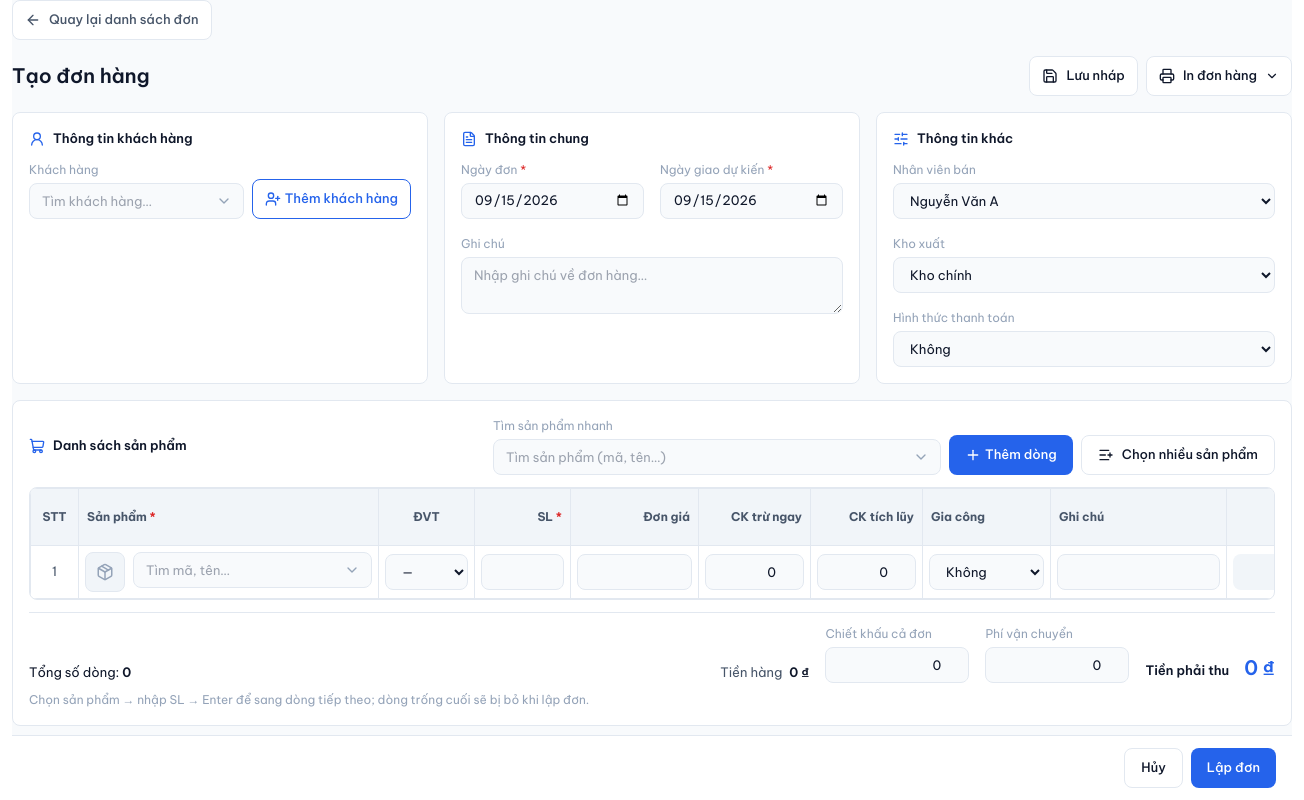
Scenario: SaleOrderForm (/sales/orders/new) › số lượng vượt tồn → cảnh báo đơn treo nhưng VẪN cho lập
The image size is (1304, 800).
In the dropdown labelled "Khách hàng": (136, 200) [29,182,244,218], type "dat"
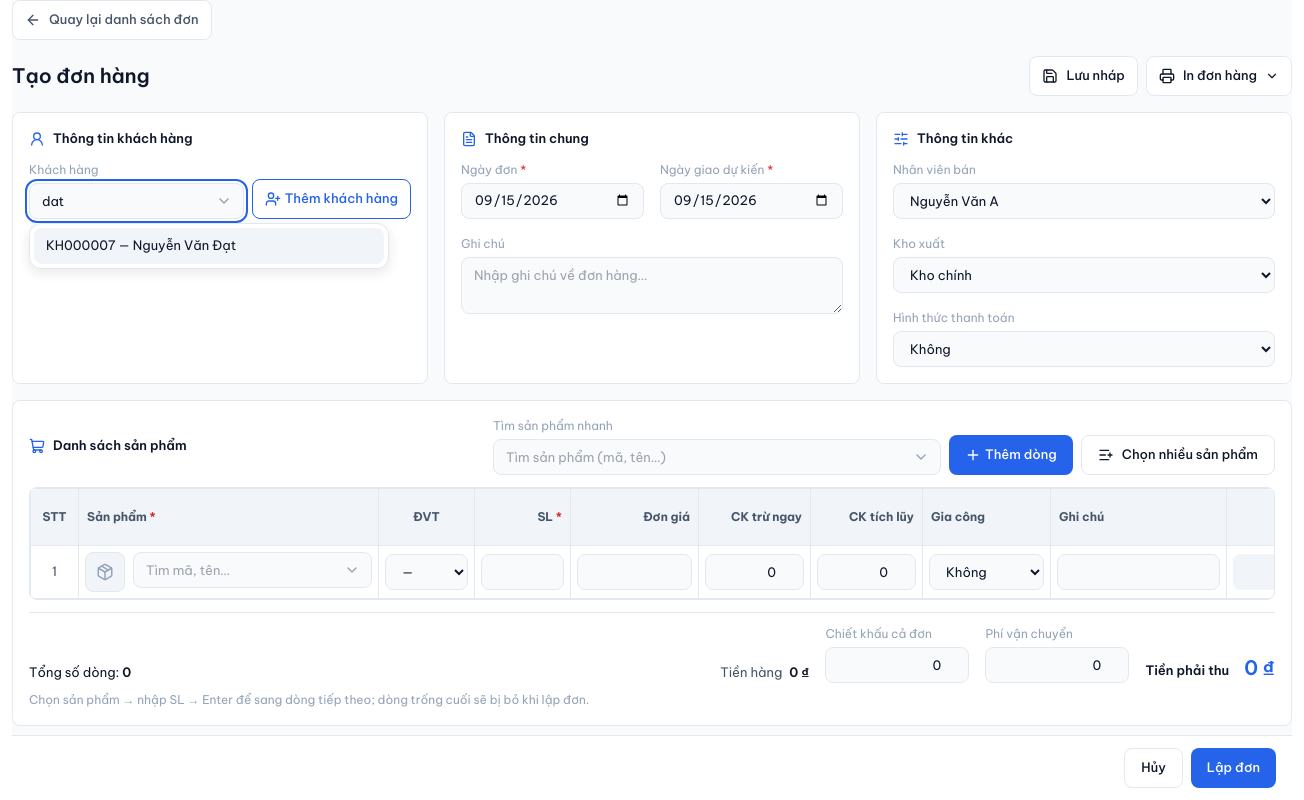
Click the option "KH000007 — Nguyễn Văn Đạt": (209, 246) [34,228,384,264]
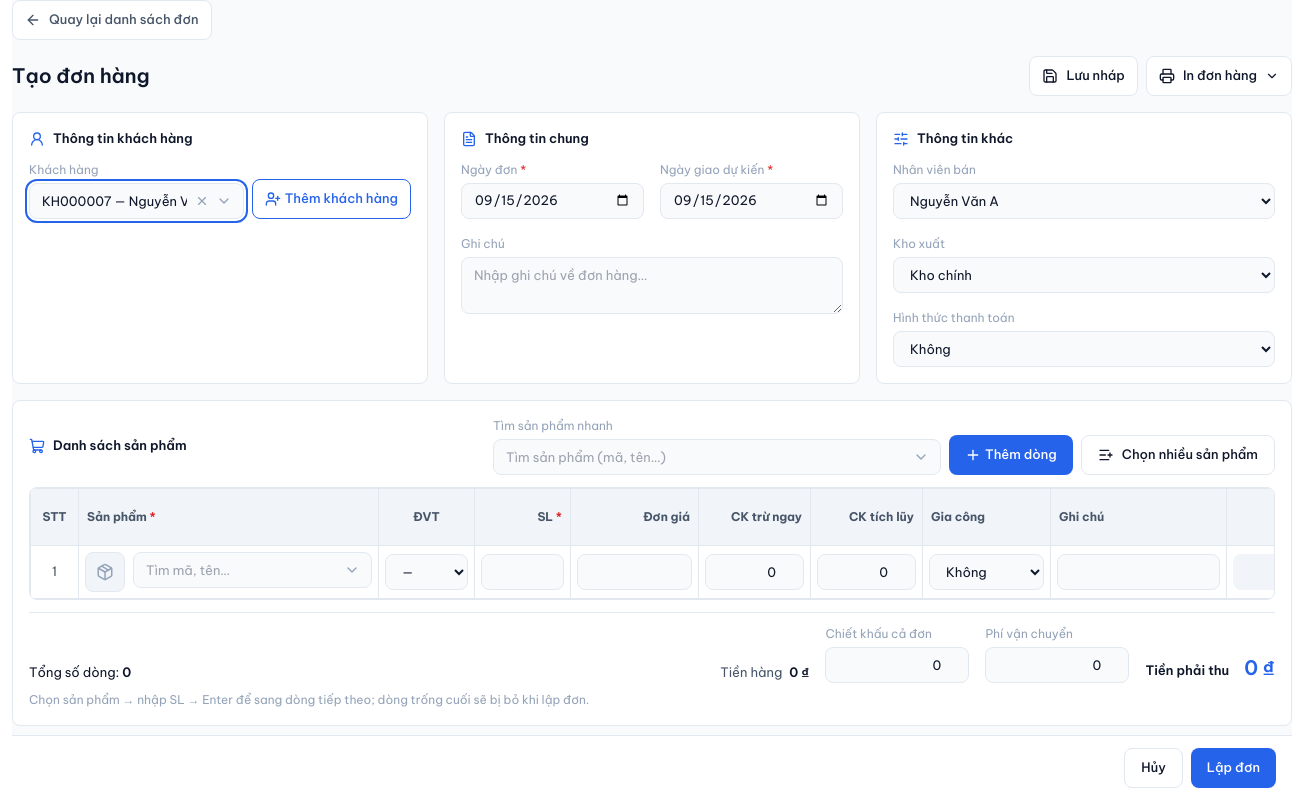
In the dropdown named "Sản phẩm dòng 1": (252, 570) [133,552,372,588], type "ton"
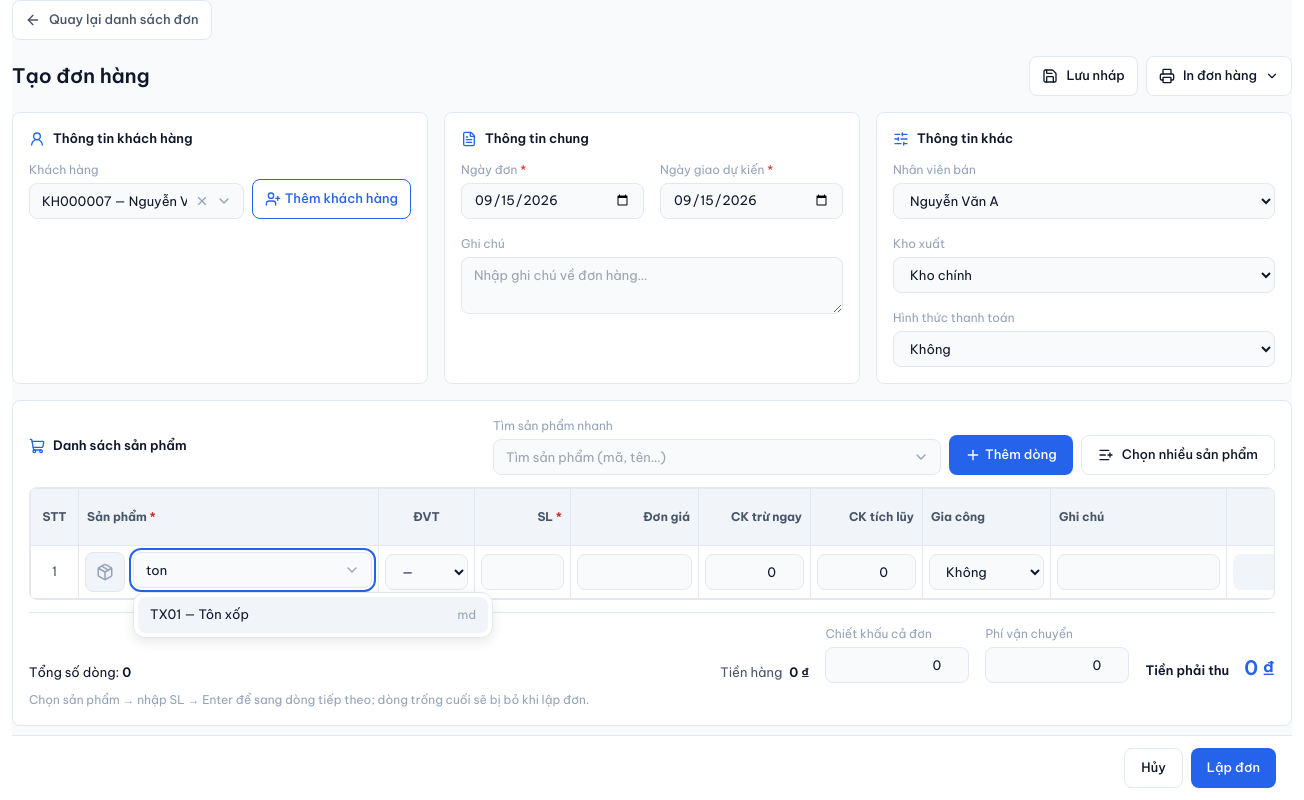
Click the option "TX01 — Tôn xốp md": (199, 614) [138,596,488,632]
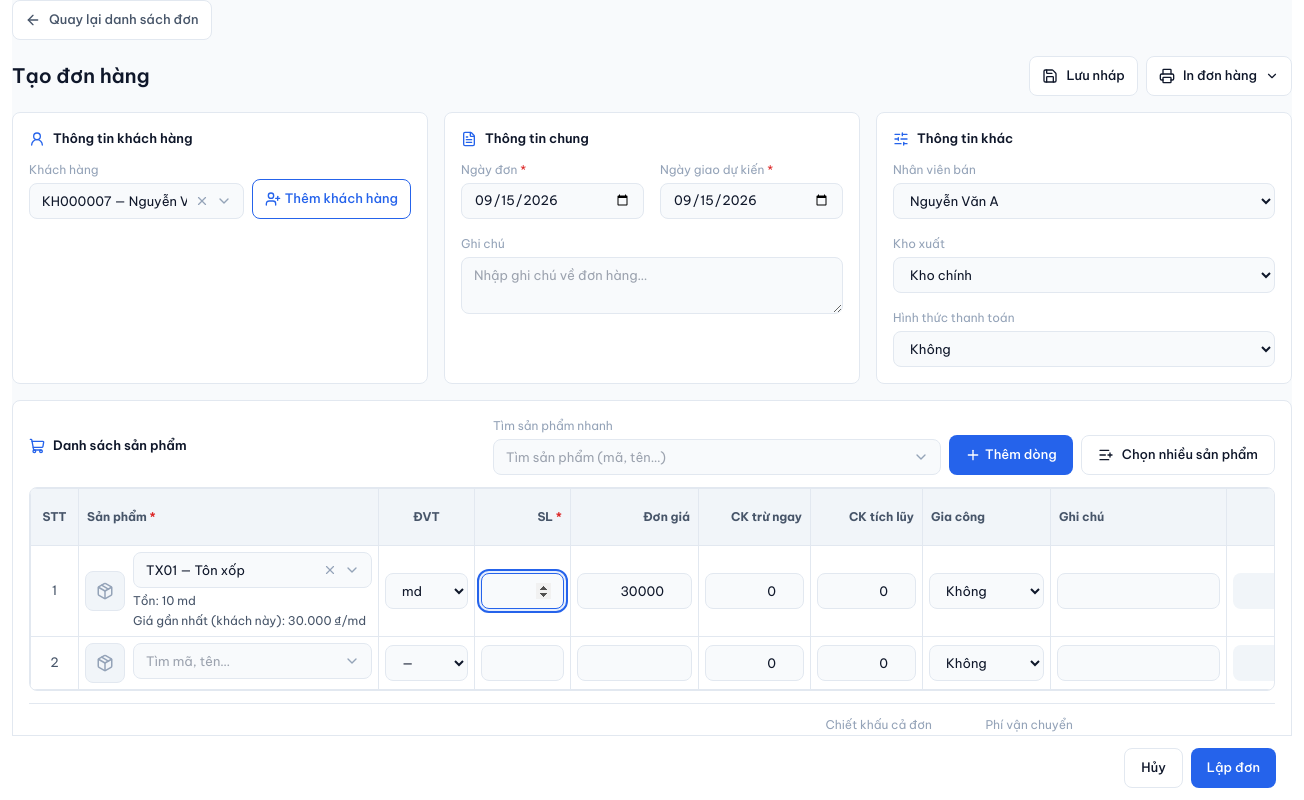
Now the text "Tồn: 10 md" is shown, box [133,592,196,608]
In the number field named "Số lượng dòng 1": (522, 590) [481,572,564,608], type "25"
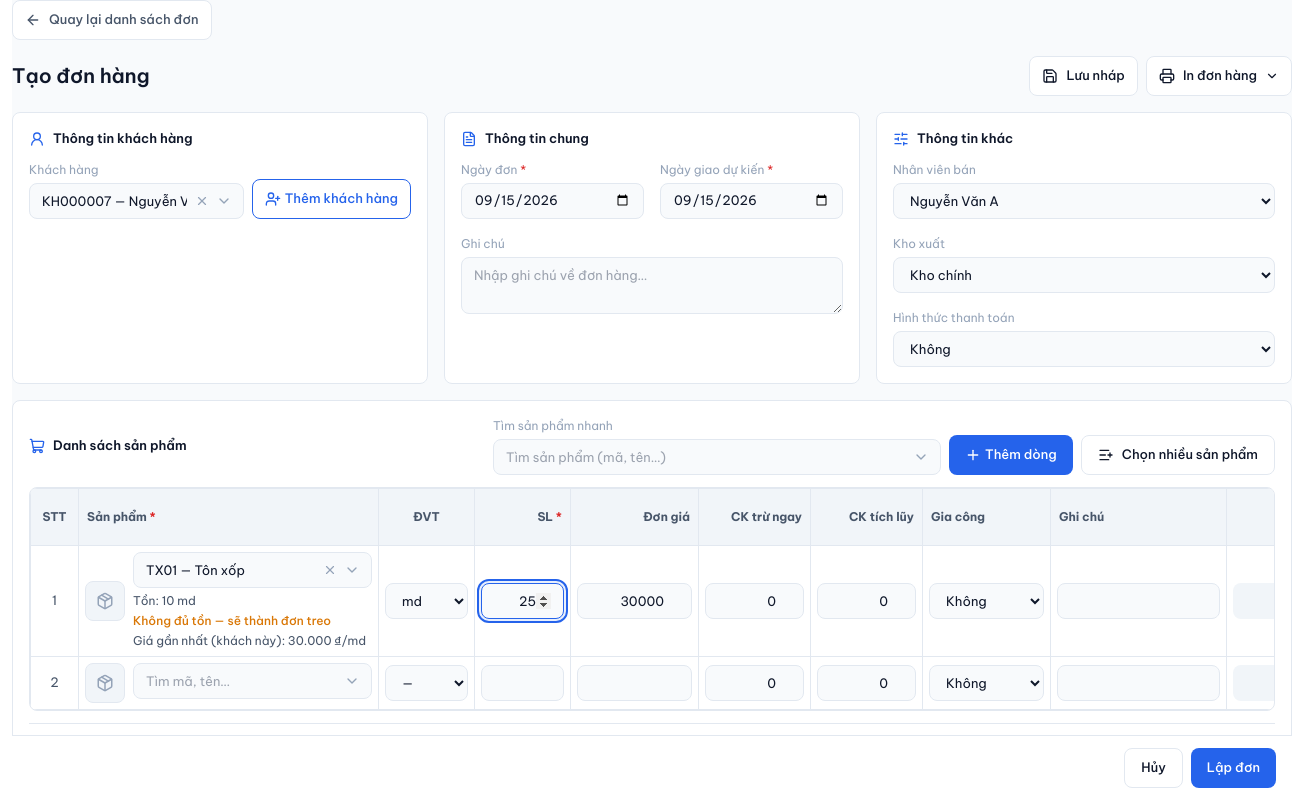
Now the text "Không đủ tồn — sẽ thành đơn treo" is shown, box [133,612,331,628]
